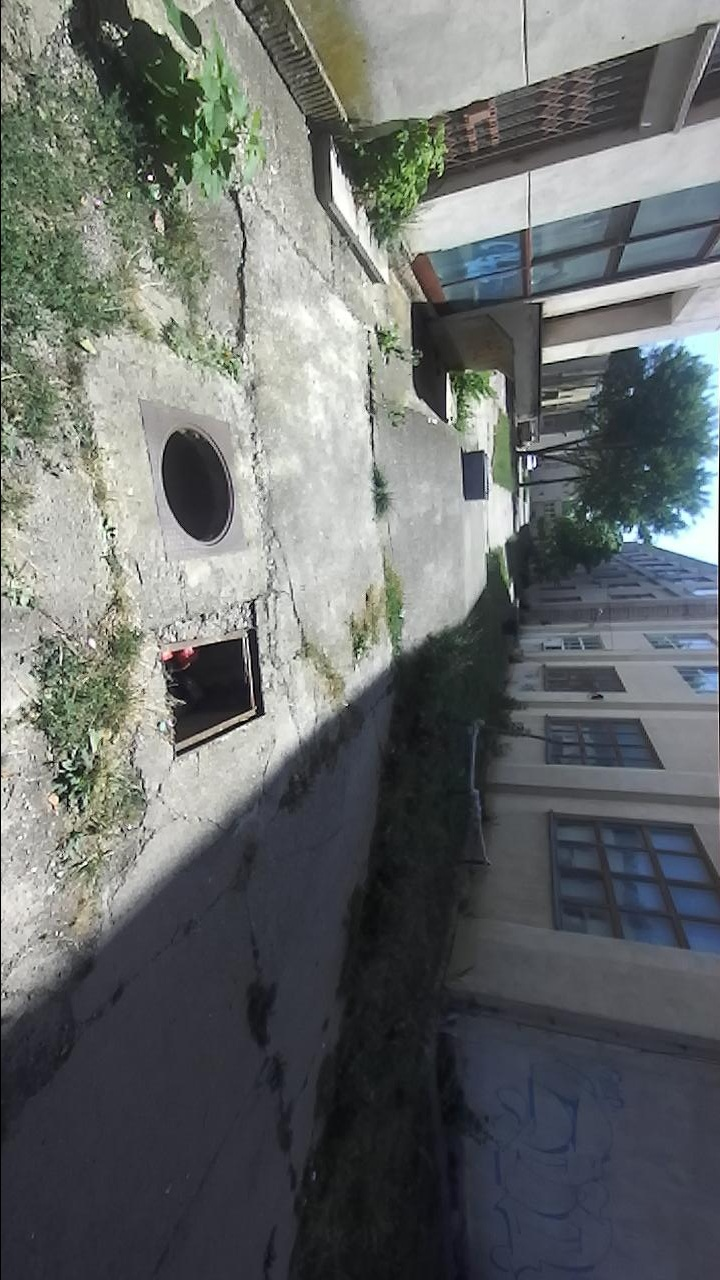drain: (164, 604, 267, 765), (161, 423, 237, 544)
